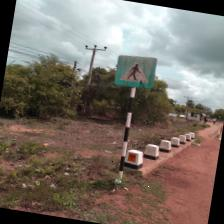blueboard: (113, 52, 158, 90)
